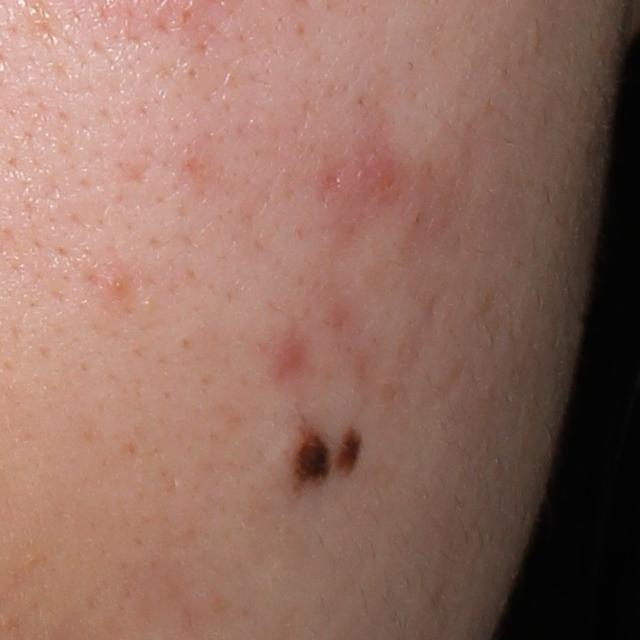nevus: (290, 414, 334, 501), (331, 422, 363, 481)
